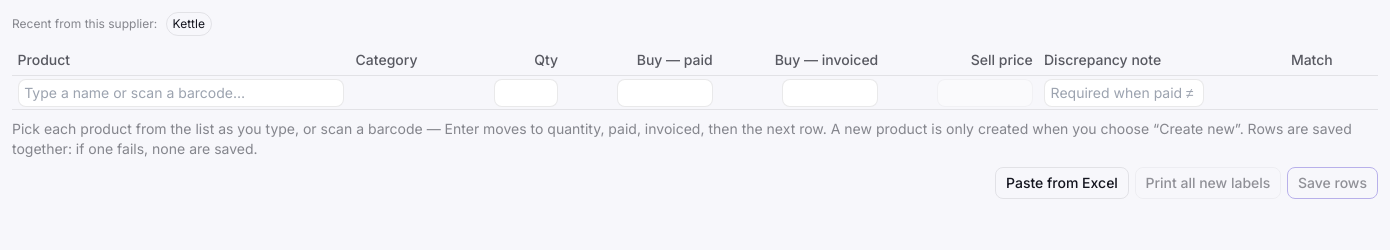
AddProductBulkTable › adds a recent product from the supplier as a row
What coordinates should you click on to do the following:
click the button "Kettle"
I would click on:
 (189, 24)
Its box is x1=166 y1=12 x2=212 y2=36.
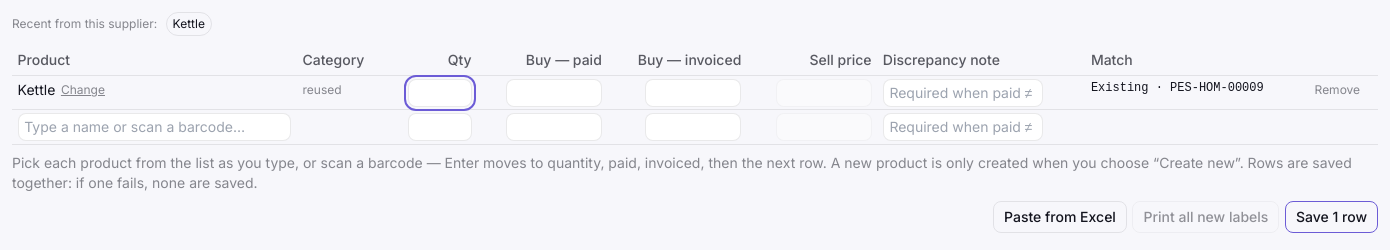
Check: the text "Existing · PES-HOM-00009" is shown, box x1=1091 y1=81 x2=1264 y2=95
